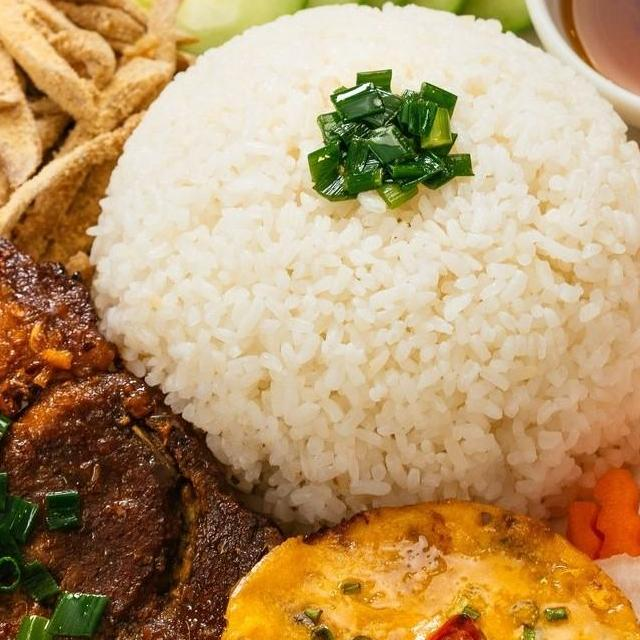bi: (0, 0, 204, 306)
com: (80, 0, 640, 554)
suon: (0, 168, 324, 640)
trung: (202, 490, 640, 640)
